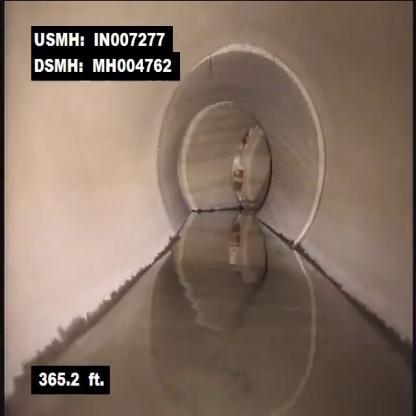jntoffs: (223, 25, 339, 252)
